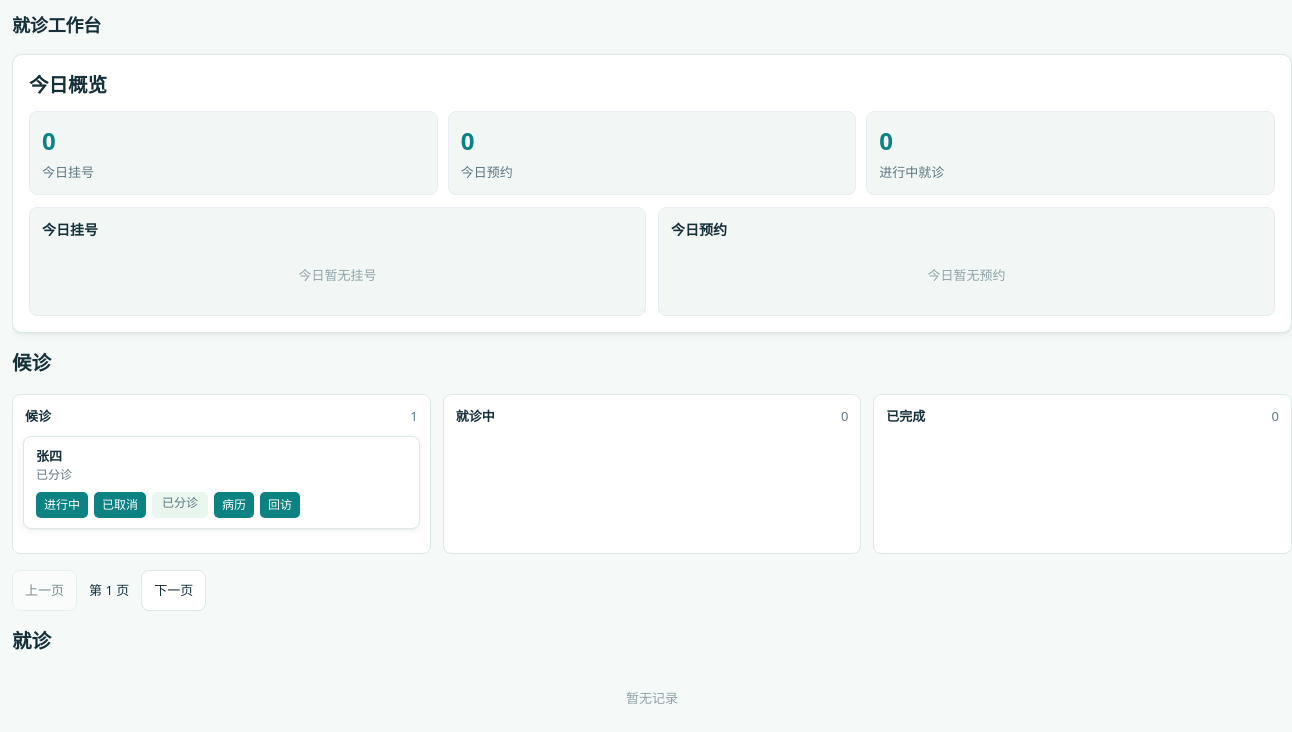
Test case: ClinicalWorkflowPage › pages the registration board server-side
The width and height of the screenshot is (1292, 732).
Expected: the text "张四" is shown, 36,447 -> 62,465
Click the button "下一页" at (174,590), box 141,570 -> 206,611
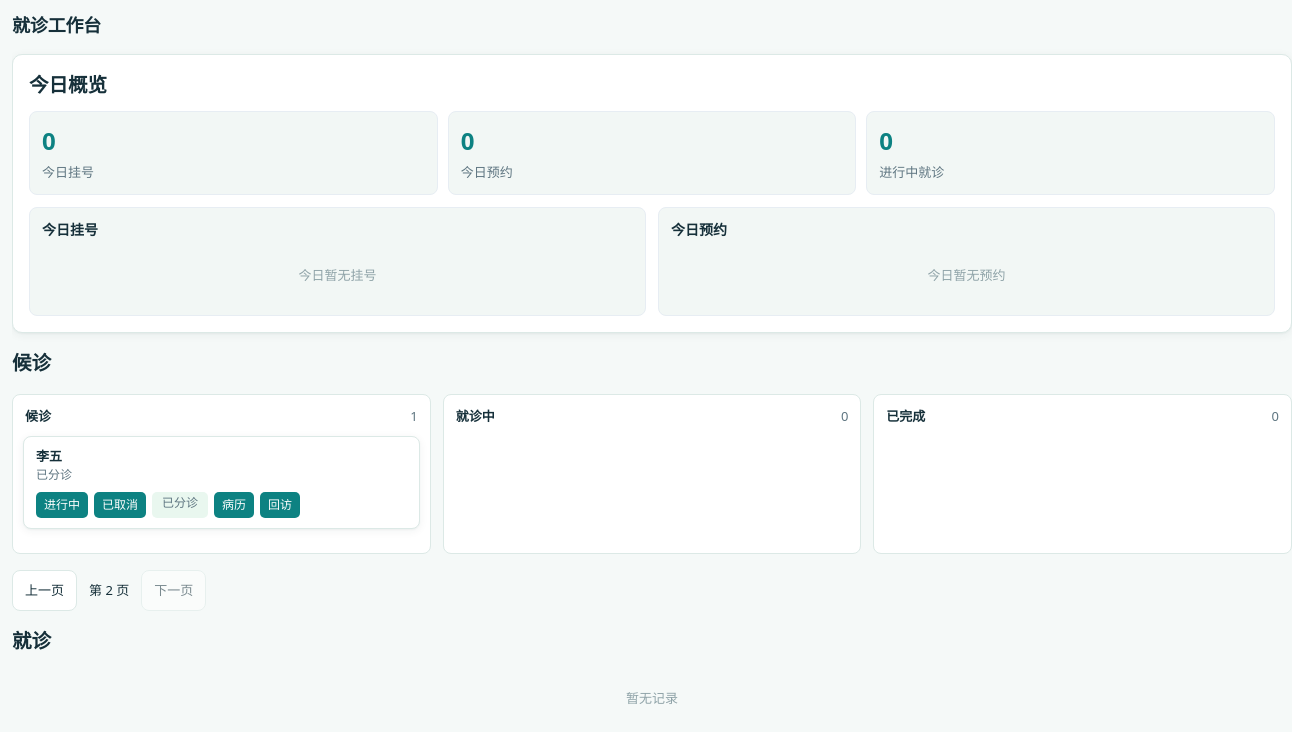
Now the text "李五" is shown, box 36,447 -> 62,465
Now the text "第 2 页" is shown, box 89,581 -> 129,600
